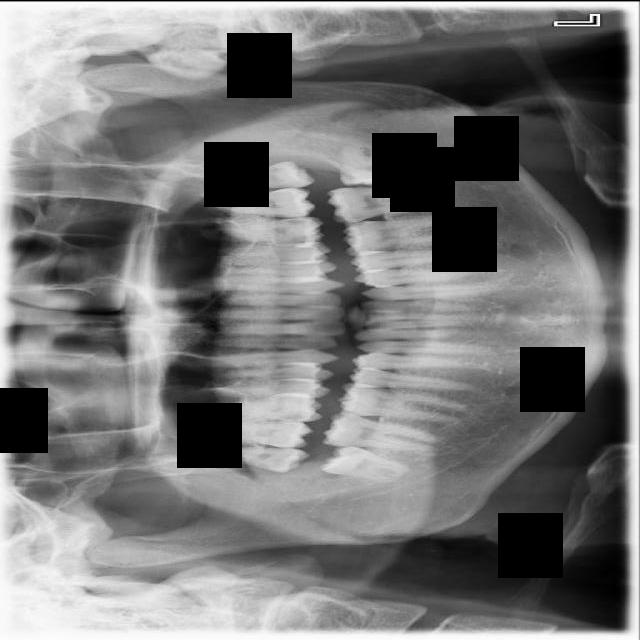3M ESPE Implant: (192, 442, 310, 472)
73: (556, 22, 565, 28)
BioHorizons Implant: (197, 186, 315, 221)
BioLife Implant: (207, 159, 316, 191)
Biomet 3i Implant: (337, 138, 407, 189)
Blue Sky Bio Implant: (326, 176, 453, 225)
Caries: (202, 419, 317, 447)
Implant: (320, 408, 447, 464)
Keystone Dental Implant: (319, 438, 413, 489)
